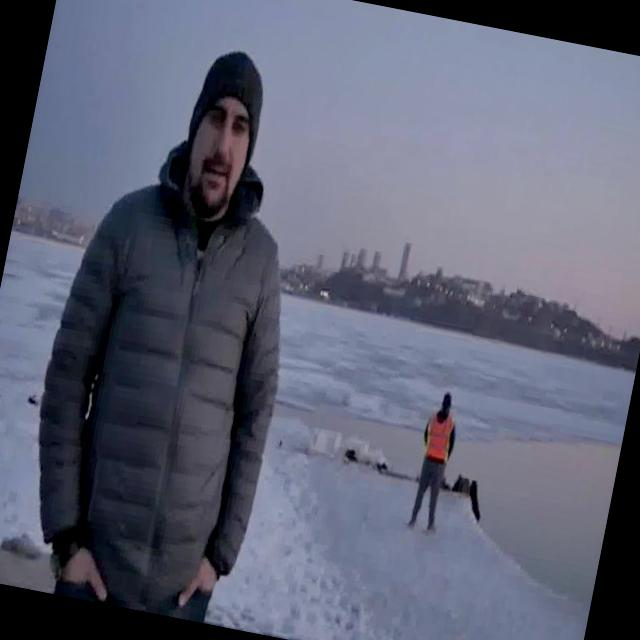vest: (419, 409, 458, 466)
